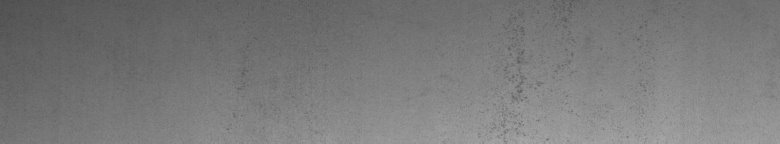ib: (492, 20, 573, 136)
